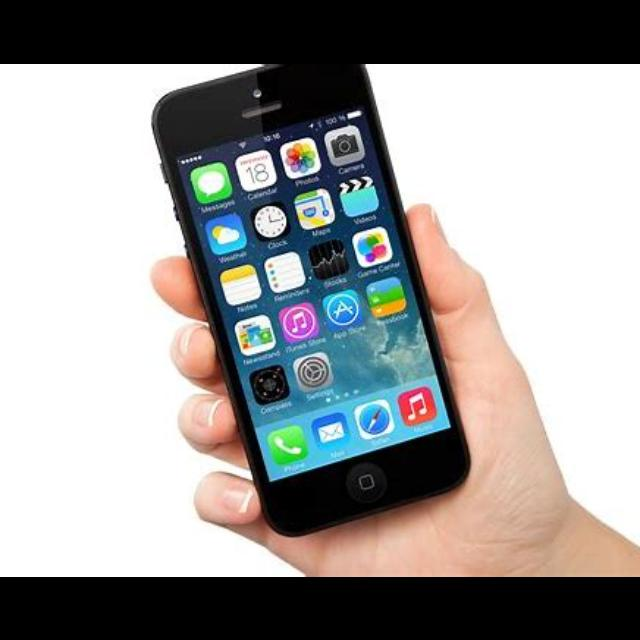Smartphone: (151, 63, 471, 540)
